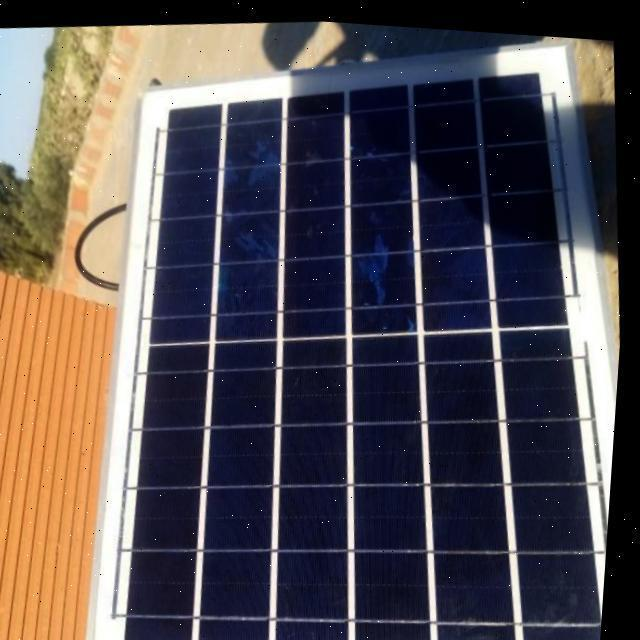Normal Solar Panel: (39, 4, 640, 640)
